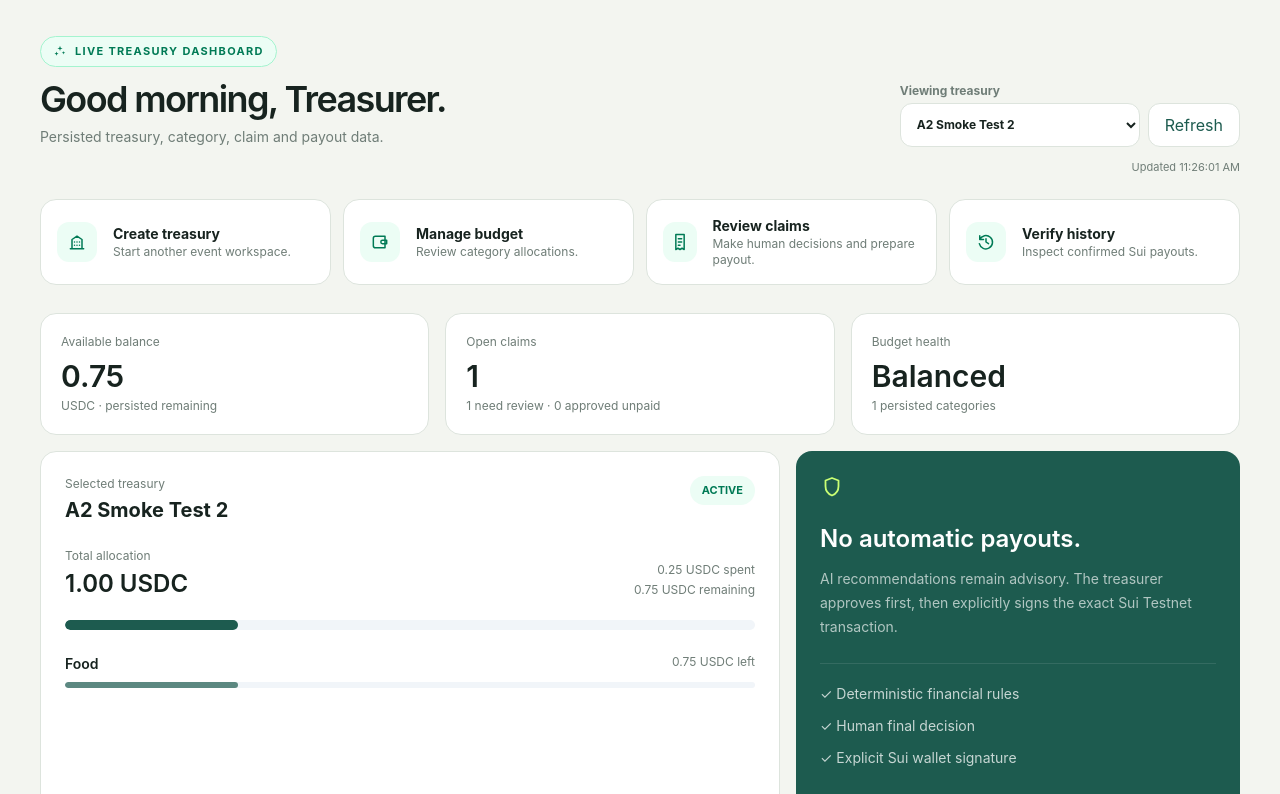
it: live Overview dashboard › defaults to the newest managed treasury and switches all live summary data
Expected: the text "0.75 USDC left" is shown, [672, 654, 755, 674]
Select "Older Event" in the dropdown labelled "Viewing treasury": (1020, 124) [900, 102, 1140, 146]
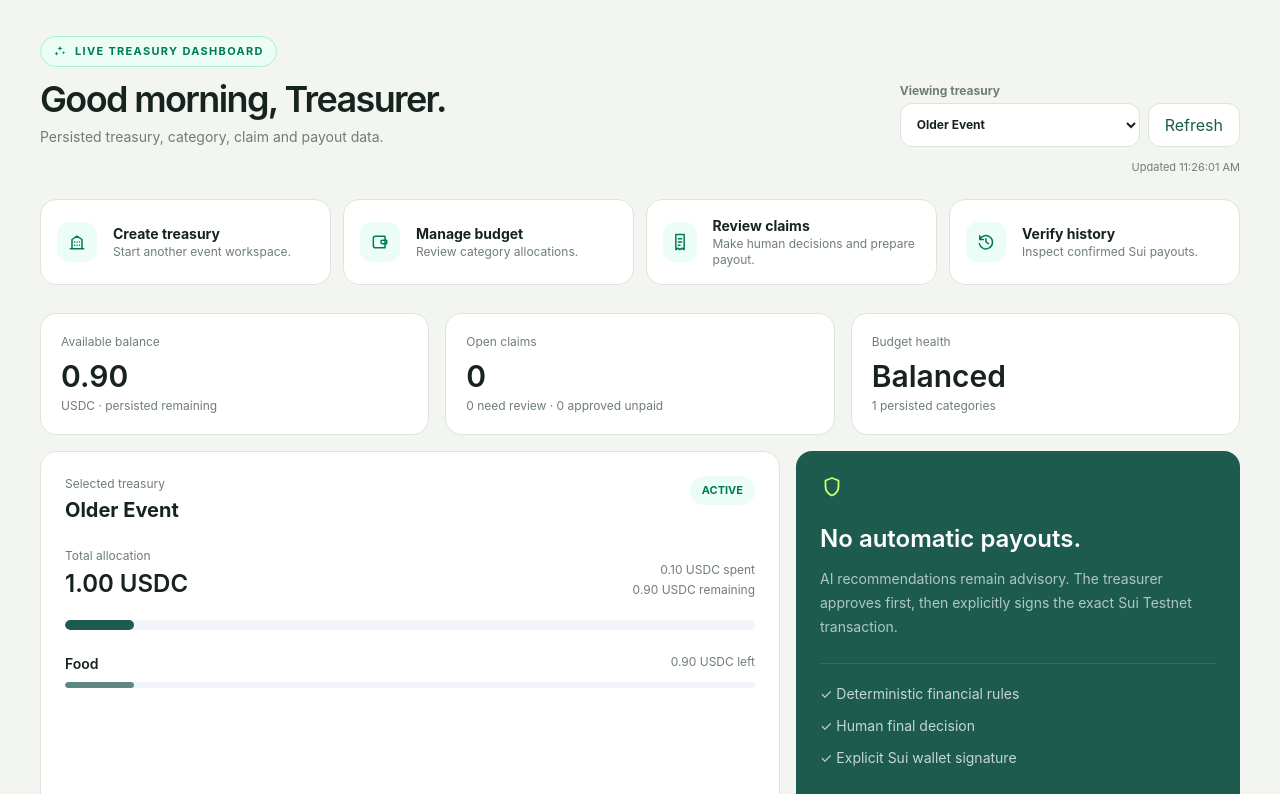
Expected: the text "0.90 USDC left" is shown, [671, 654, 755, 674]
